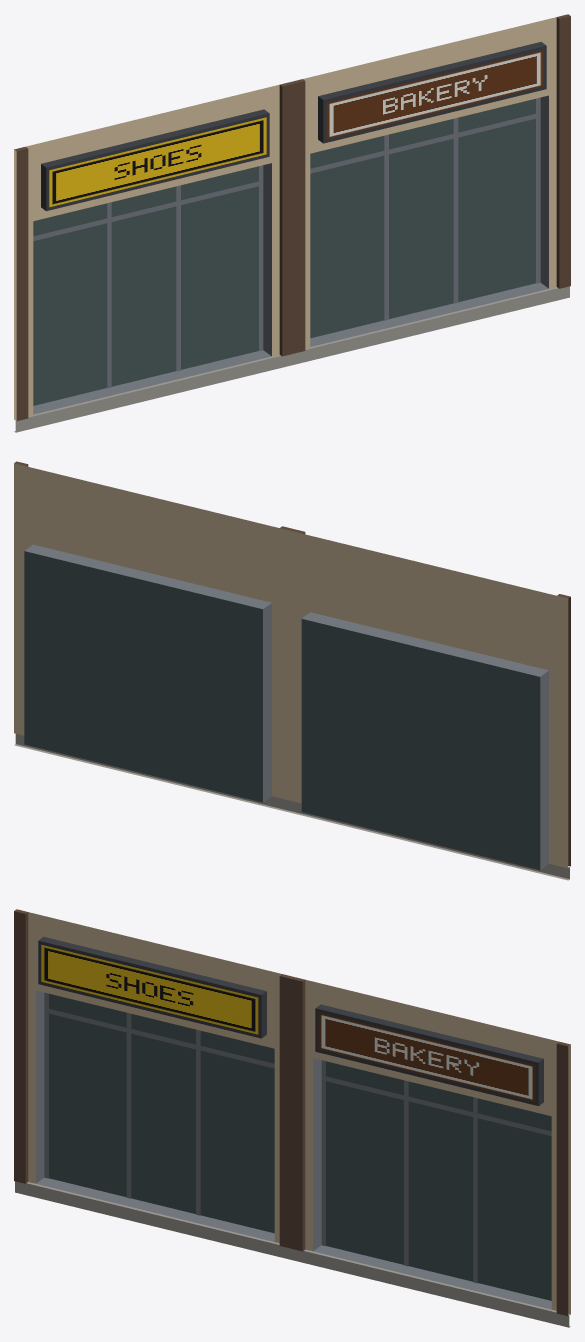
3 renders of one model, top to bottom at view 1: azimuth 30°, elevation 25°; view 2: azimuth 150°, elevation 25°; view 3: azimuth 330°, elevation 25°, orthographic.
Parts seen in each view (by area): view 1: a2009/200/base-w4; view 2: a2009/200/base-w4; view 3: a2009/200/base-w4.
Part boxes in pixels (x1,y1,x2,y2): a2009/200/base-w4: (14,14,570,432); a2009/200/base-w4: (14,461,570,880); a2009/200/base-w4: (14,909,570,1327).
Bounding box in the file's own units: 7.2 × 3.5 × 0.322.
